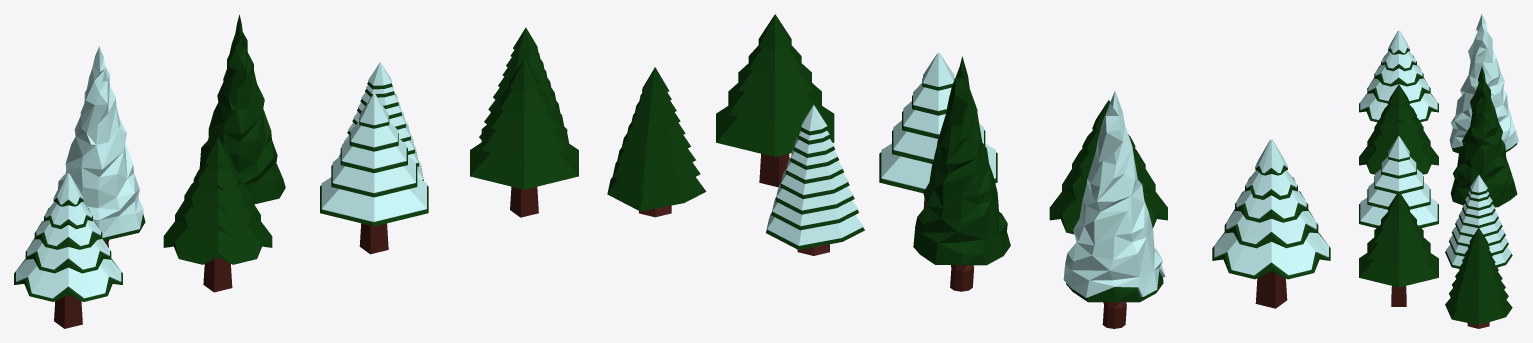
3 renders of one model, left to right at view 1: azimuth 30°, elevation 25°; view 2: azimuth 150°, elevation 25°; view 3: azimuth 270°, elevation 25°, orthographic. The views are drawn at different scales.
Parts seen in each view (by area): view 1: Christmas tree 2, Snow spruse1, Christmas tree 3, Snow, Spruce2, Snow 2, Christmas tree 004, Сhristmas tree, Spruce, Snow spruce, Tree 3, Tree 004 (+3 smaller); view 2: Snow spruse1, Spruce2, Christmas tree 2, Spruce, Snow 2, Snow spruce, Snow, Christmas tree 3, Spruce001, Christmas tree 004, Сhristmas tree, Tree 004 (+4 smaller); view 3: Christmas tree 2, Spruce2, Spruce, Snow spruse1, Christmas tree 3, Snow, Snow 2, Snow spruce, Spruce001, Christmas tree 004, Сhristmas tree, Tree 2.
Boxes of the visible parts, bbox=[...] form: Christmas tree 2: bbox=[470, 58, 578, 189]; Snow spruse1: bbox=[58, 46, 143, 237]; Christmas tree 3: bbox=[163, 137, 272, 264]; Snow: bbox=[321, 94, 426, 222]; Spruce2: bbox=[199, 14, 285, 204]; Snow 2: bbox=[16, 173, 121, 298]; Christmas tree 004: bbox=[14, 197, 122, 301]; Сhristmas tree: bbox=[320, 117, 428, 226]; Spruce: bbox=[479, 27, 568, 142]; Snow spruce: bbox=[340, 62, 423, 179]; Tree 3: bbox=[203, 257, 232, 292]; Tree 004: bbox=[54, 294, 82, 328]; Snow spruse1: bbox=[1063, 91, 1165, 297]; Spruce2: bbox=[913, 56, 1010, 265]; Christmas tree 2: bbox=[716, 14, 834, 156]; Spruce: bbox=[607, 67, 706, 211]; Snow 2: bbox=[1214, 139, 1328, 275]; Snow spruce: bbox=[767, 105, 863, 245]; Snow: bbox=[881, 52, 995, 189]; Christmas tree 3: bbox=[1049, 100, 1167, 234]; Spruce001: bbox=[766, 126, 864, 249]; Christmas tree 004: bbox=[1212, 165, 1330, 279]; Сhristmas tree: bbox=[879, 78, 997, 193]; Tree 004: bbox=[1255, 271, 1287, 308]; Christmas tree 2: bbox=[1359, 191, 1438, 287]; Spruce2: bbox=[1450, 66, 1517, 207]; Spruce: bbox=[1445, 227, 1512, 325]; Snow spruse1: bbox=[1449, 14, 1518, 150]; Christmas tree 3: bbox=[1359, 84, 1438, 174]; Snow: bbox=[1360, 136, 1437, 225]; Snow 2: bbox=[1360, 30, 1437, 119]; Snow spruce: bbox=[1446, 175, 1511, 266]; Spruce001: bbox=[1445, 188, 1512, 268]; Christmas tree 004: bbox=[1359, 48, 1438, 122]; Сhristmas tree: bbox=[1359, 154, 1438, 228]; Tree 2: bbox=[1391, 286, 1406, 306].
Size of the model in its own units: 195 by 66.63 by 61.34.
